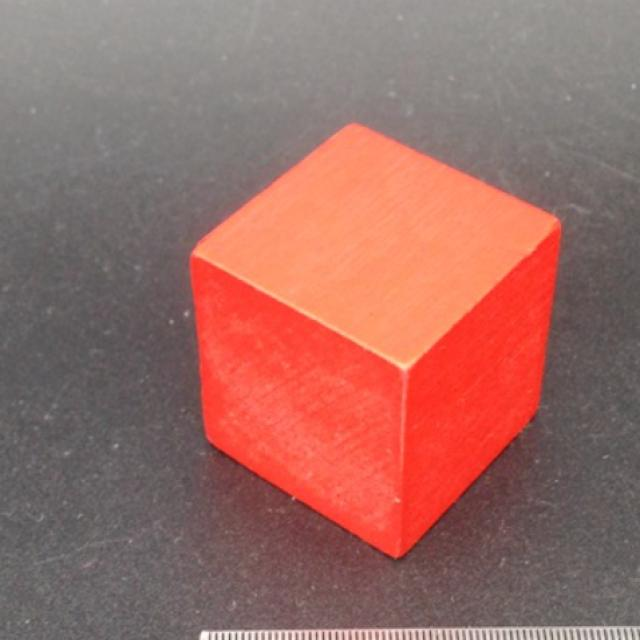red cube: (189, 124, 562, 561)
